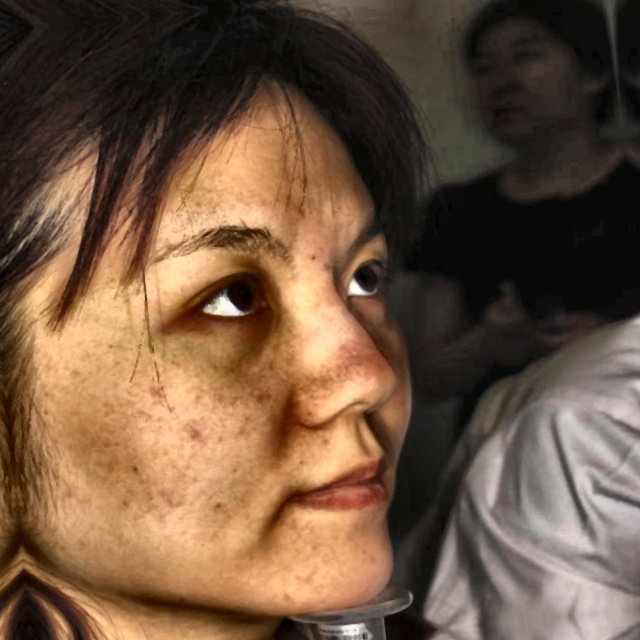comedone: (370, 354, 392, 378)
